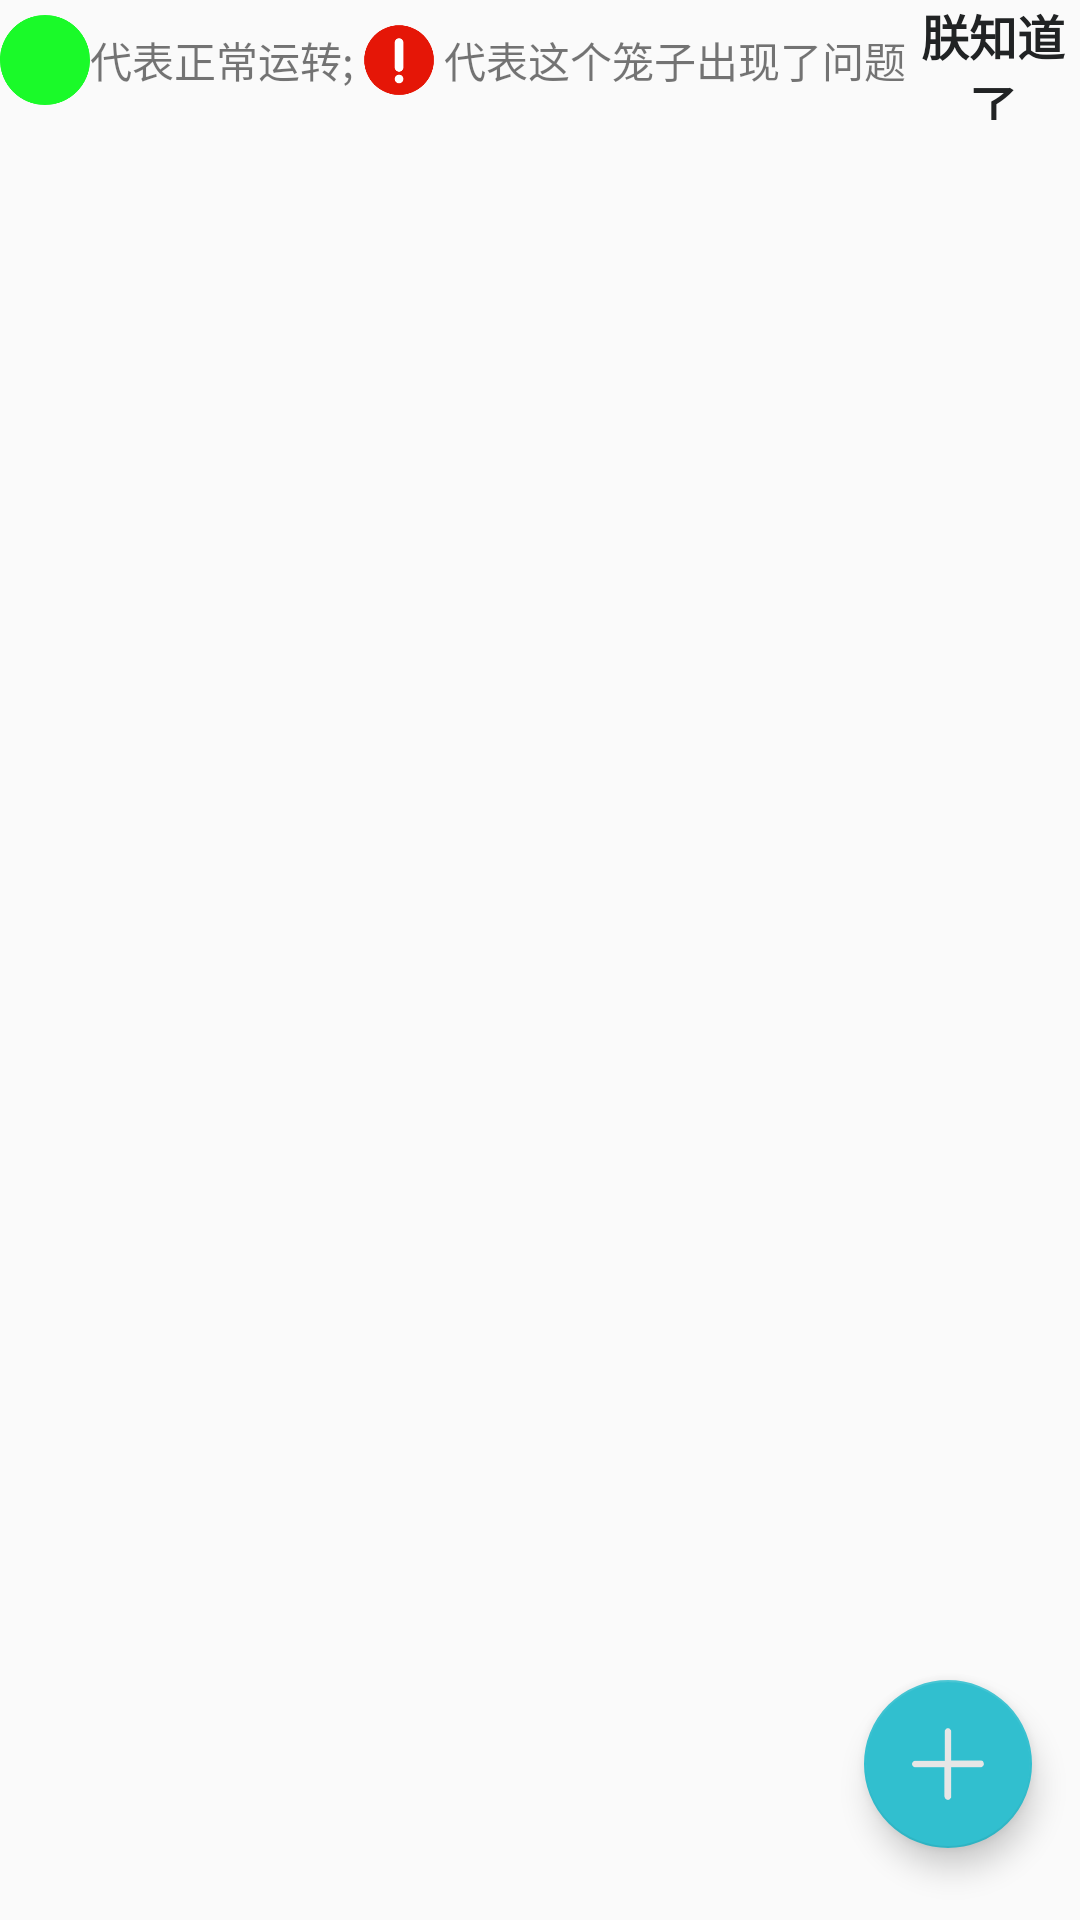

Where icons sit on this 1080px×1920px app screen, as bbox=[x1, y1, x2, y2]:
add no backround: bbox=[864, 1680, 1032, 1848]
alarm: bbox=[364, 25, 434, 95]
